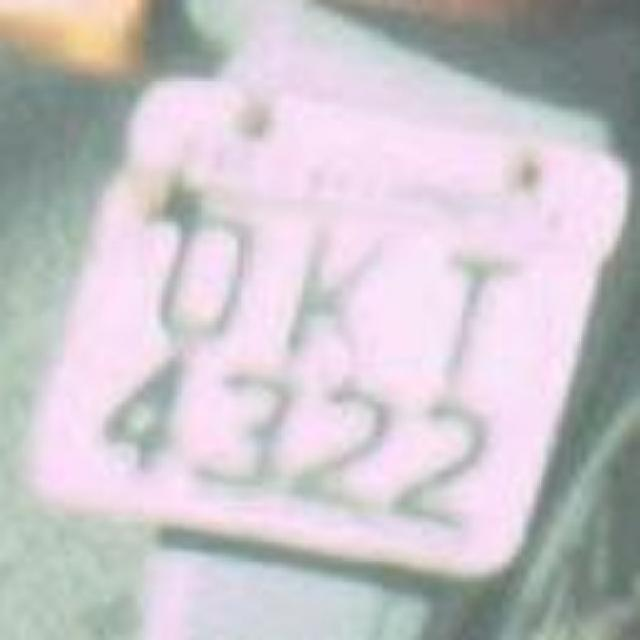2: (368, 380, 512, 548), (276, 368, 409, 528)
4: (72, 316, 208, 496)
O: (135, 172, 280, 352)
T: (395, 232, 520, 408)
